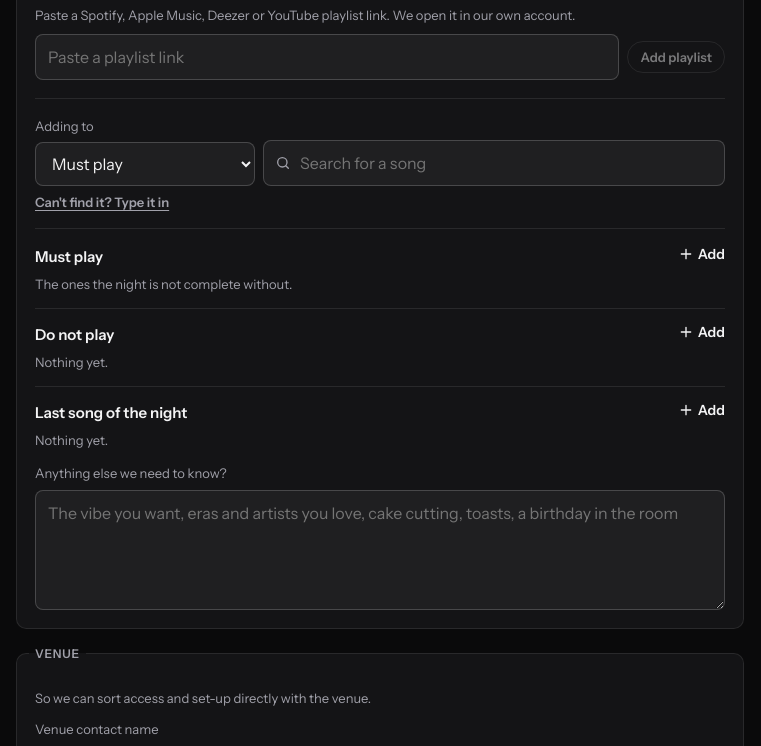
Scenario: the Add shortcut on a list points the search at it; adding to a one-song list fills it and closes the search
(page scrolled)
Expected: the element "Last song of the night" is shown, [35,386,725,464]
Click the button with aria-label "Add to Last song of the night" at [701, 410], box [678,401,725,419]
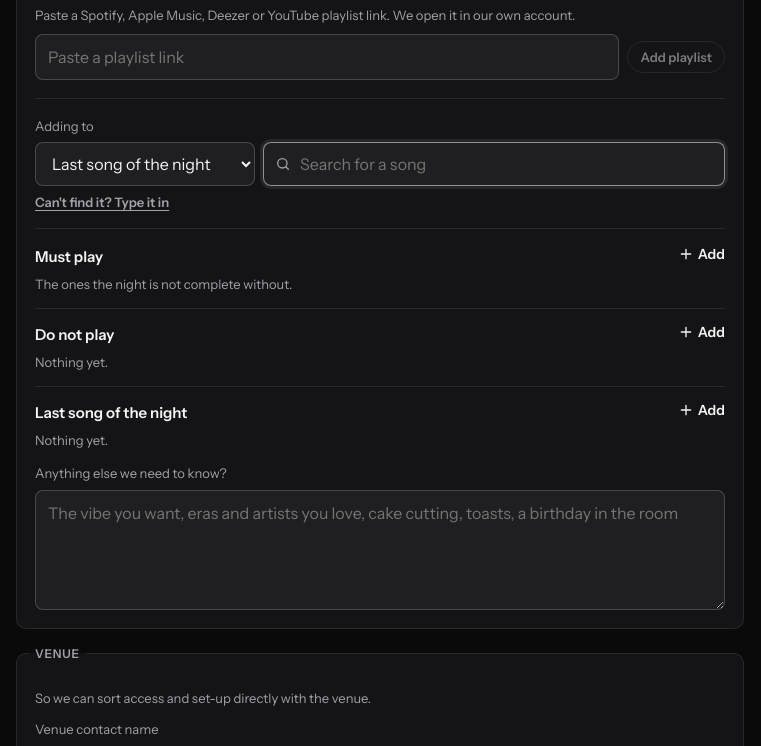
Expected: the dropdown labelled "Adding to" shows "Last song of the night", [35,142,255,186]
Type "perf" into the search field labelled "Search for a song" at [494, 164], box [263,142,725,186]
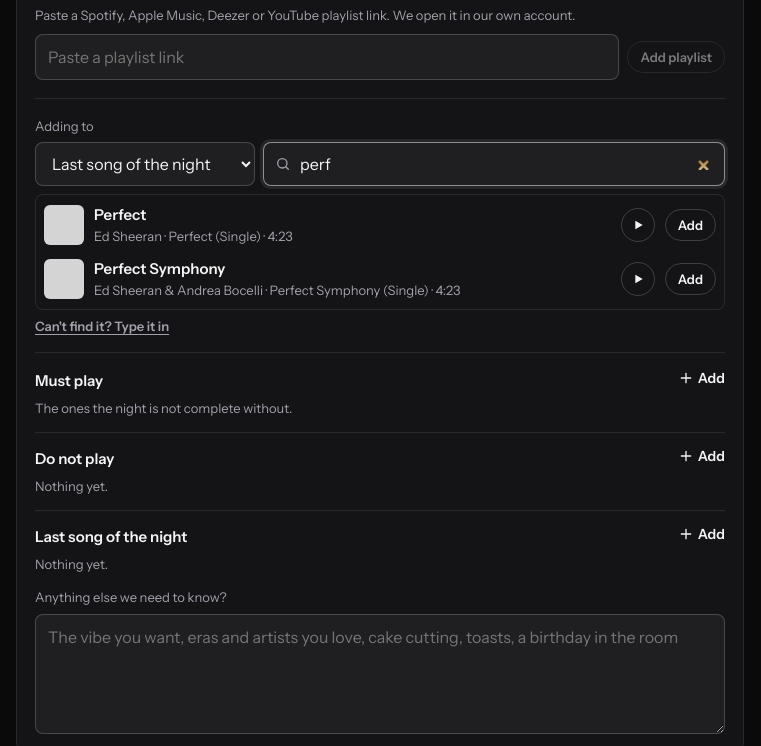
Expected: the button with aria-label "Add Perfect Symphony by Ed Sheeran & Andrea Bocelli" is shown, [665,263,716,295]
Click the button named "Preview Perfect" at [638, 225], box [621,208,655,242]
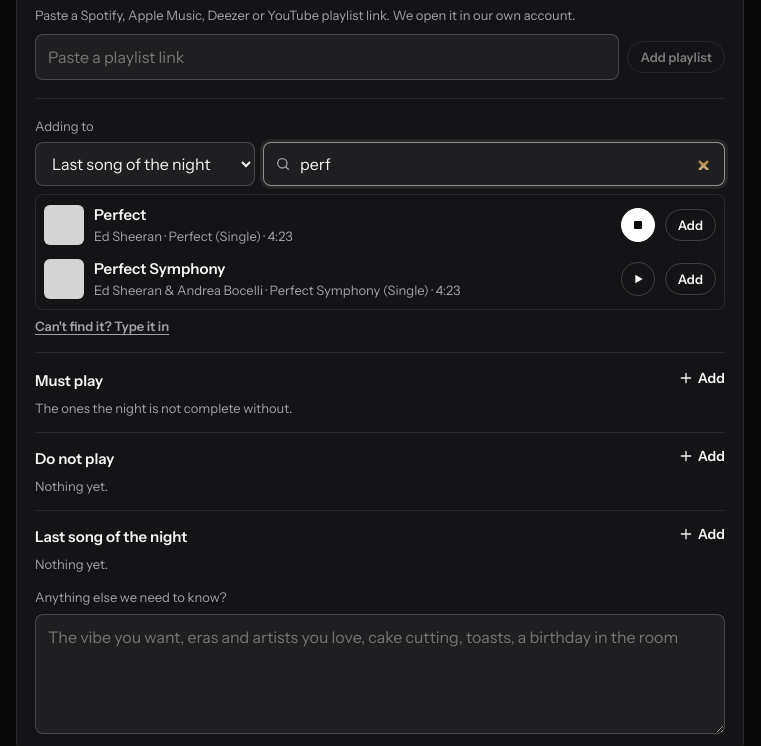
Expected: the button named "Stop preview of Perfect" is shown, [621,208,655,242]
Click the button with aria-label "Add Perfect by Ed Sheeran" at [690, 225], box [665,209,716,241]
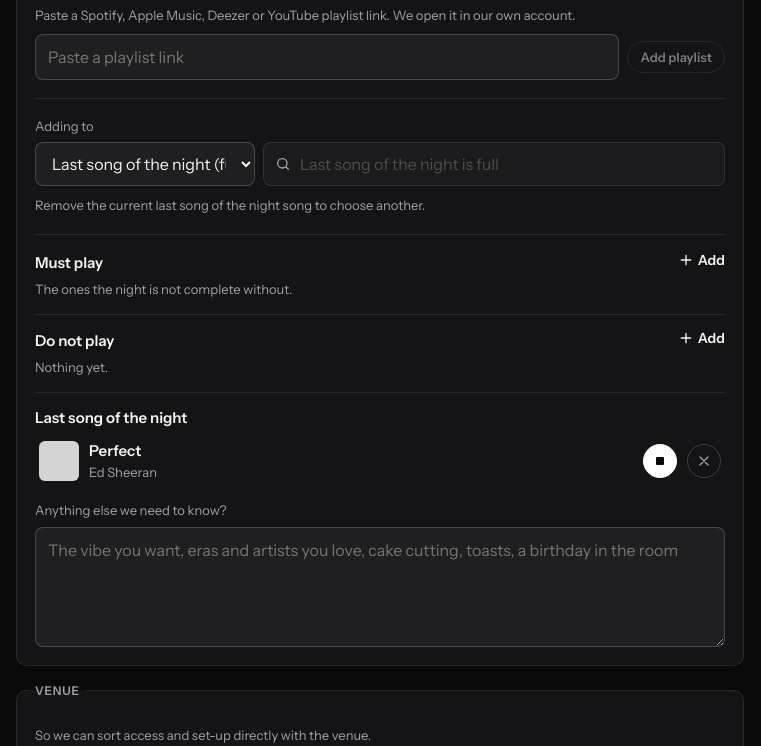
Expected: the button named "Remove Perfect" is shown
Expected: the search field named "Search for a song" is disabled, [263,142,725,186]
Expected: the text "Remove the current last song of the night song" is shown, [35,197,425,213]
Click the button named "Remove Perfect" at [704, 461], box [687,444,721,478]
(page scrolled)
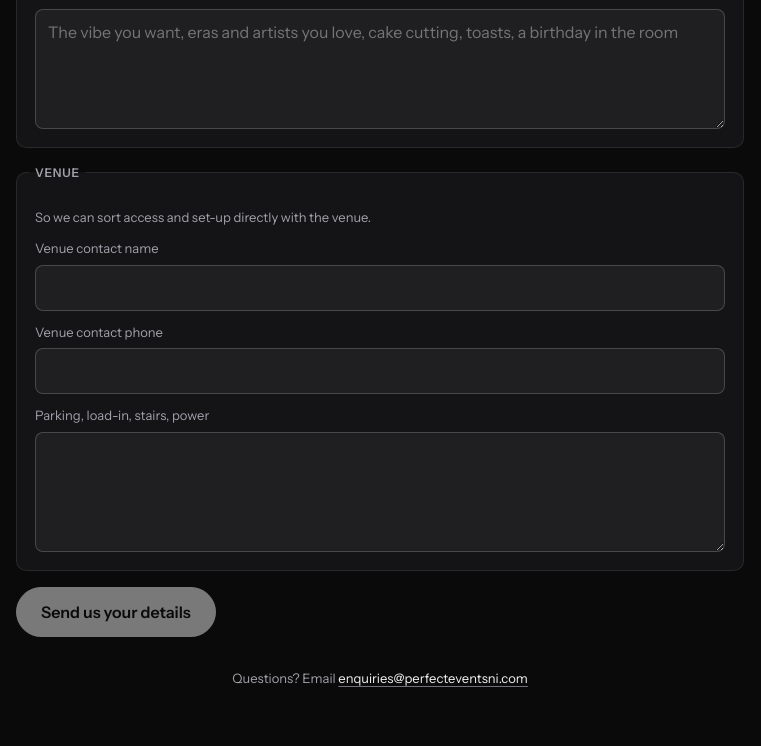
Expected: the button "Send us your details" is disabled, [16,587,216,637]
